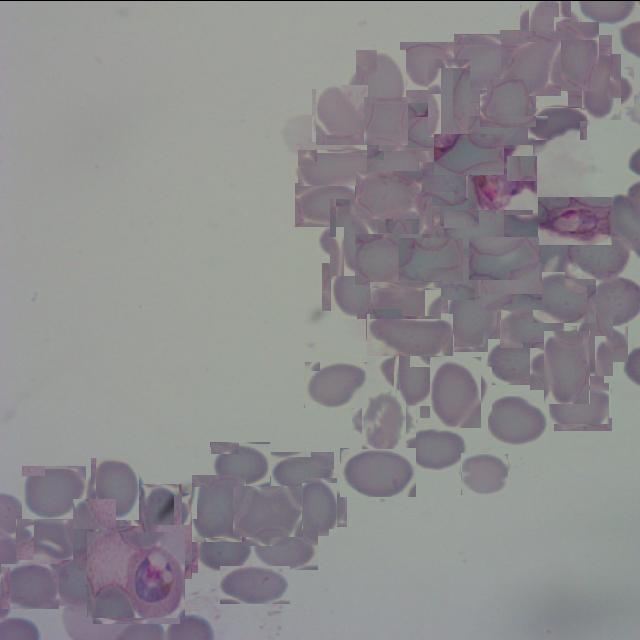gametocyte: (470, 146, 536, 212)
leukocyte: (500, 29, 561, 95), (322, 205, 386, 267), (425, 360, 487, 422), (366, 312, 453, 355), (340, 447, 416, 496), (189, 477, 250, 538), (238, 480, 298, 541), (419, 66, 480, 126), (350, 54, 410, 114), (537, 336, 597, 396), (354, 232, 422, 284), (21, 464, 86, 518), (405, 101, 479, 147), (444, 290, 502, 348), (532, 270, 596, 322), (545, 381, 612, 430), (355, 169, 422, 218), (468, 115, 548, 155), (550, 27, 606, 84), (565, 230, 631, 278), (50, 555, 113, 605), (326, 258, 382, 314), (387, 342, 443, 398), (454, 33, 510, 89), (314, 86, 370, 142), (366, 136, 434, 182), (295, 182, 365, 226), (400, 41, 464, 89), (252, 523, 318, 569), (469, 236, 539, 279), (488, 395, 549, 444), (88, 461, 142, 516), (358, 393, 412, 448), (403, 232, 458, 286), (304, 360, 367, 407), (500, 302, 564, 348), (434, 134, 504, 176), (480, 262, 542, 309), (574, 59, 628, 112), (68, 503, 121, 557), (488, 338, 550, 384), (297, 148, 374, 185), (404, 426, 468, 470), (16, 516, 80, 560), (443, 208, 504, 254), (369, 280, 441, 318), (0, 562, 59, 608), (270, 450, 334, 492), (220, 565, 290, 603), (524, 0, 576, 51), (210, 442, 270, 486), (136, 487, 186, 538), (570, 317, 620, 368), (434, 250, 484, 300), (483, 80, 532, 130), (197, 527, 252, 571), (294, 482, 342, 531), (418, 160, 470, 205), (147, 528, 195, 576), (388, 200, 436, 248), (362, 98, 410, 144), (461, 452, 508, 494), (528, 106, 587, 139)
schizont: (90, 528, 183, 620), (538, 196, 612, 244)
